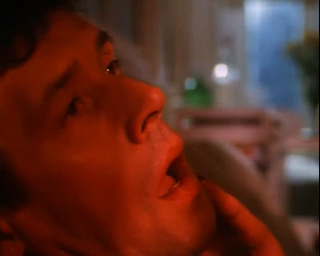ecu: (1, 1, 320, 256)
face: (1, 12, 219, 256)
person: (1, 1, 289, 256)
